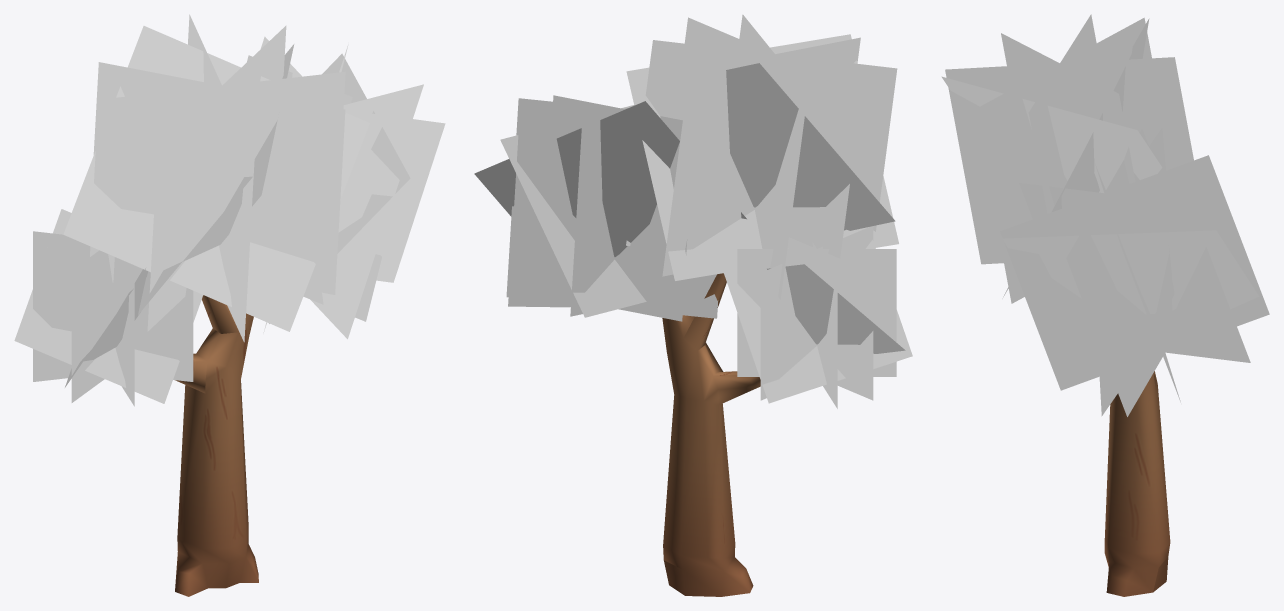
Rendered from Tree_1.fbx.
The picture shows the model from 3 angles, left to right: view 1: azimuth 30°, elevation 25°; view 2: azimuth 150°, elevation 25°; view 3: azimuth 270°, elevation 25°; orthographic projection. The views are drawn at different scales.
Visible parts, largest first — view 1: Tree1; view 2: Tree1; view 3: Tree1.
Part boxes in pixels (<box>): Tree1: <box>14,14,445,596</box>; Tree1: <box>474,14,912,596</box>; Tree1: <box>941,14,1269,596</box>.
Bounding box in the file's own units: 12.29 × 15.57 × 8.71.
